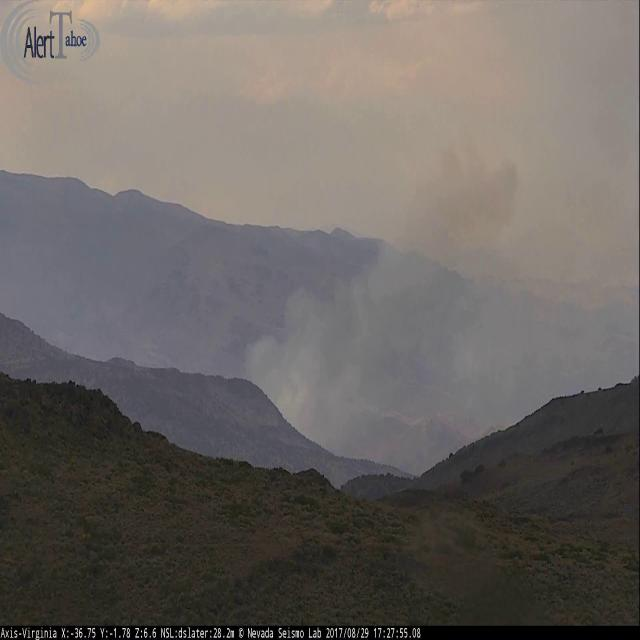smoke: (243, 82, 640, 496)
